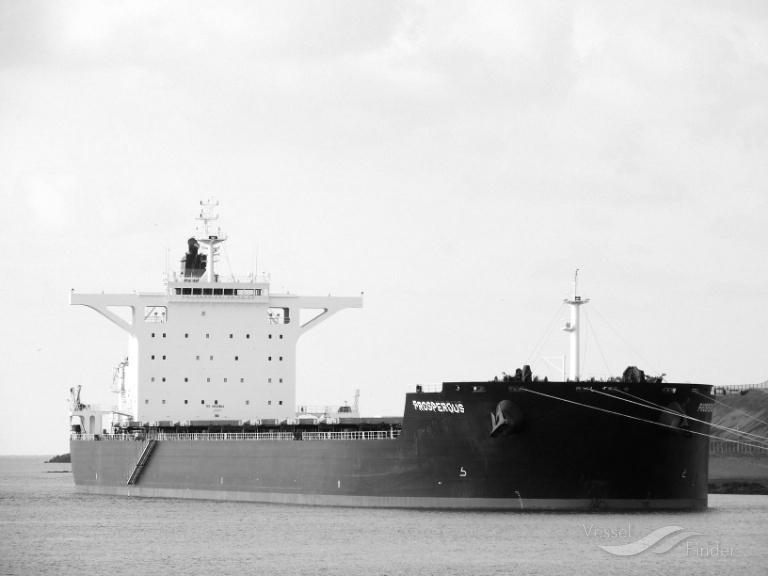OCR: (406, 396, 464, 420)
